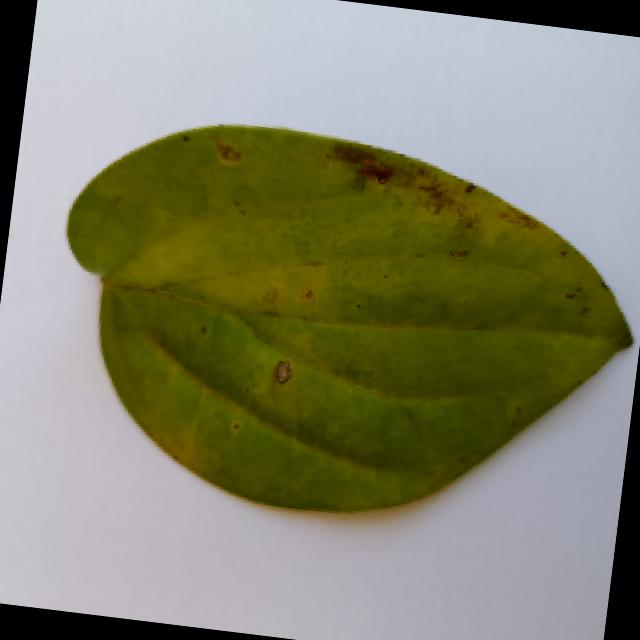slow-decline: (18, 100, 640, 551)
